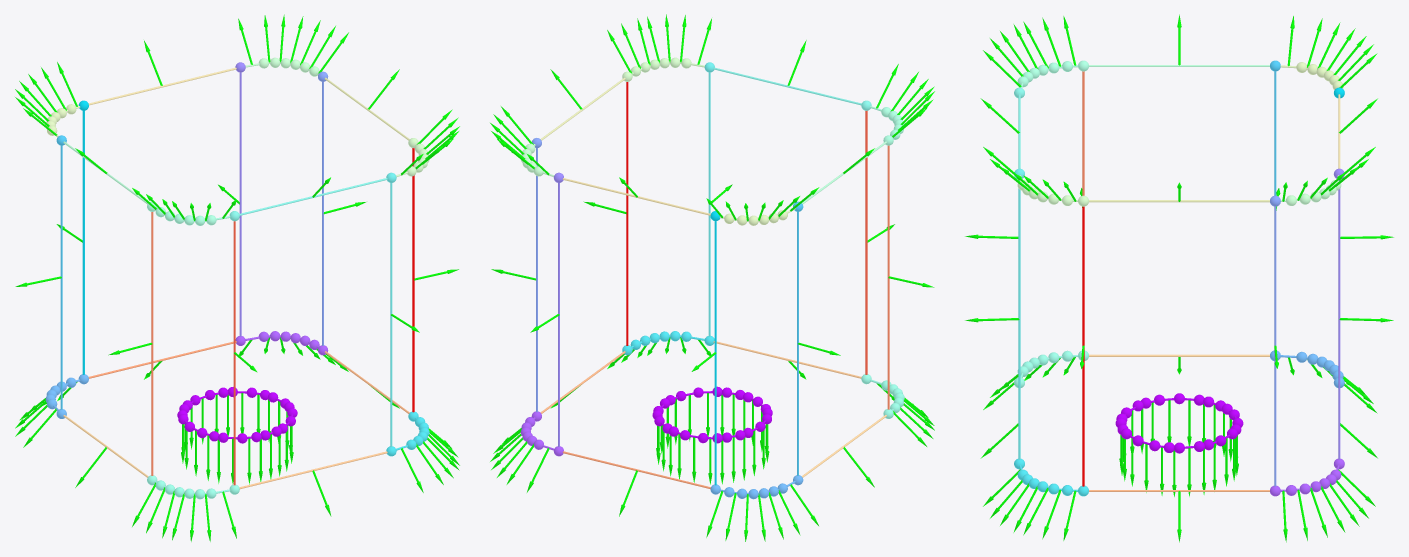
File: onshape_simple_shape.gltf
The picture shows the model from 3 angles, left to right: view 1: azimuth 30°, elevation 25°; view 2: azimuth 150°, elevation 25°; view 3: azimuth 270°, elevation 25°; orthographic projection. The views are drawn at different scales.
Size of the model in its own units: 0.7772 by 0.7481 by 0.7771.
